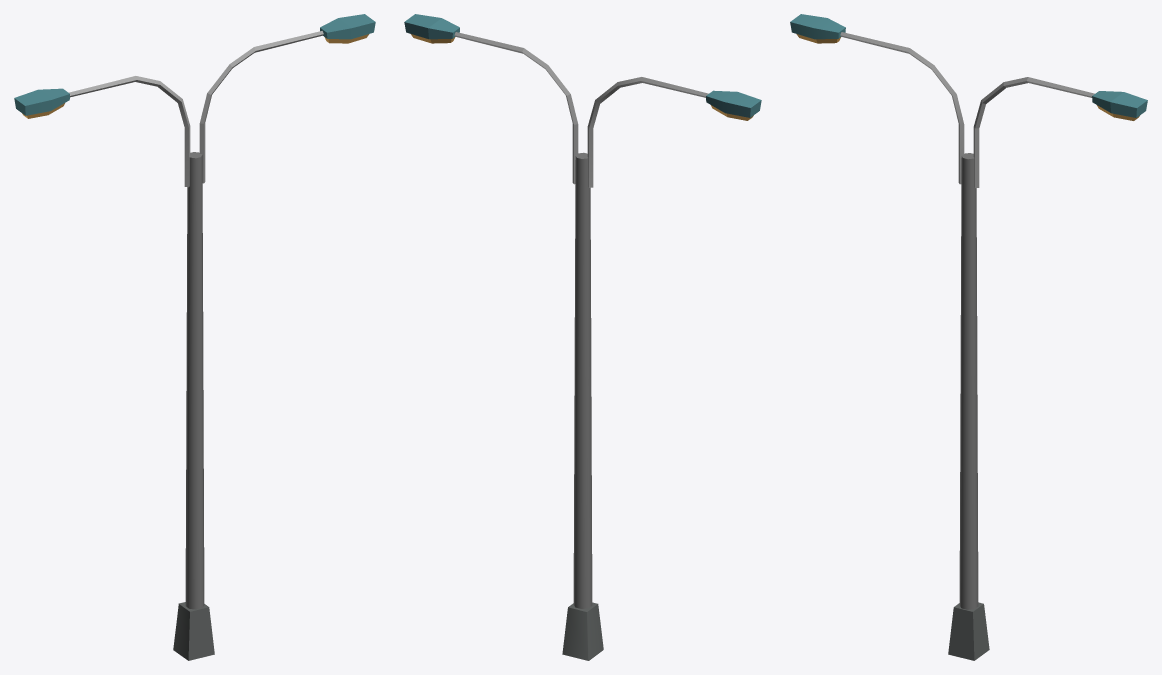
Rendered from wujian_streetLight_02.FBX.
3 renders of one model, left to right at view 1: azimuth 30°, elevation 25°; view 2: azimuth 150°, elevation 25°; view 3: azimuth 330°, elevation 25°, orthographic.
Visible parts, largest first — view 1: wujian_streetLight_02; view 2: wujian_streetLight_02; view 3: wujian_streetLight_02.
Boxes of the visible parts, bbox=[...] form: wujian_streetLight_02: bbox=[14, 14, 375, 660]; wujian_streetLight_02: bbox=[404, 14, 761, 660]; wujian_streetLight_02: bbox=[790, 14, 1147, 660].
Size of the model in its own units: 6.41 by 10.41 by 0.5057.
